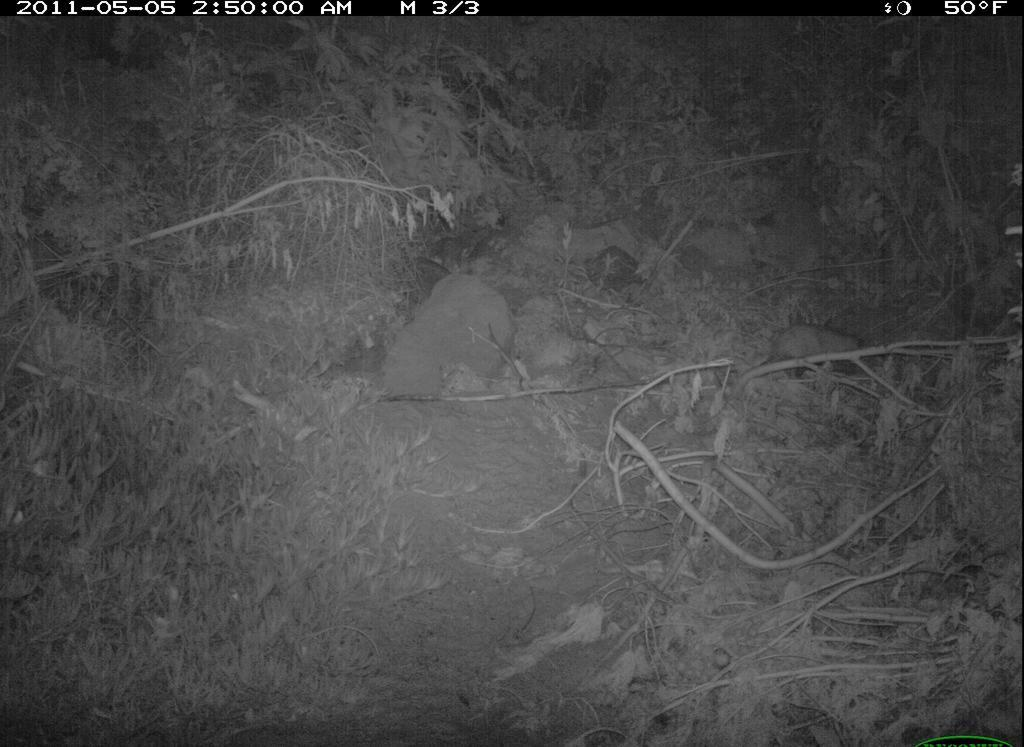opossum: (752, 304, 885, 401)
